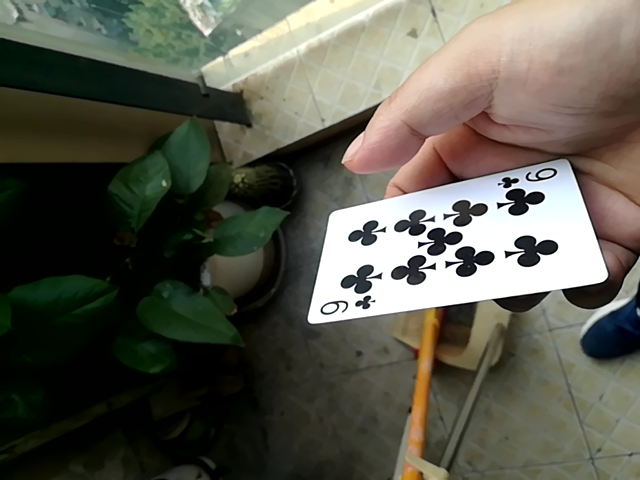mh 9: (305, 170, 612, 323)
